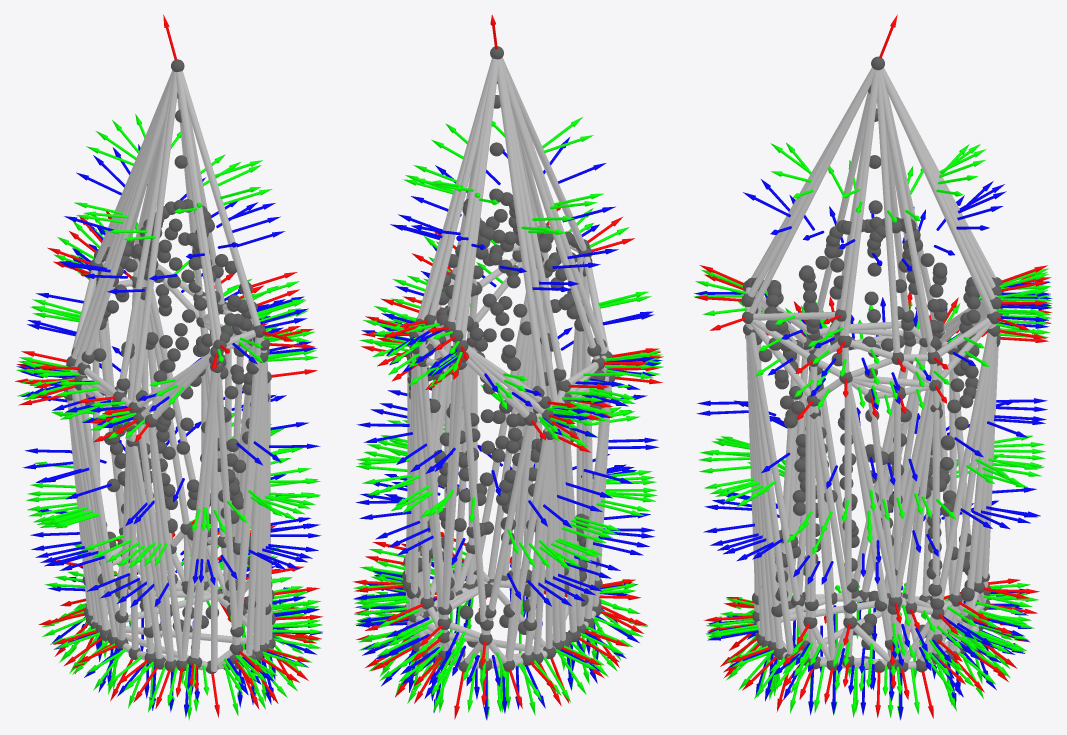
File: curvefusion_bust.gltf
The picture shows the model from 3 angles, left to right: view 1: azimuth 30°, elevation 25°; view 2: azimuth 150°, elevation 25°; view 3: azimuth 270°, elevation 25°; orthographic projection. The views are drawn at different scales.
Size of the model in its own units: 0.4053 by 1.05 by 0.5136.
